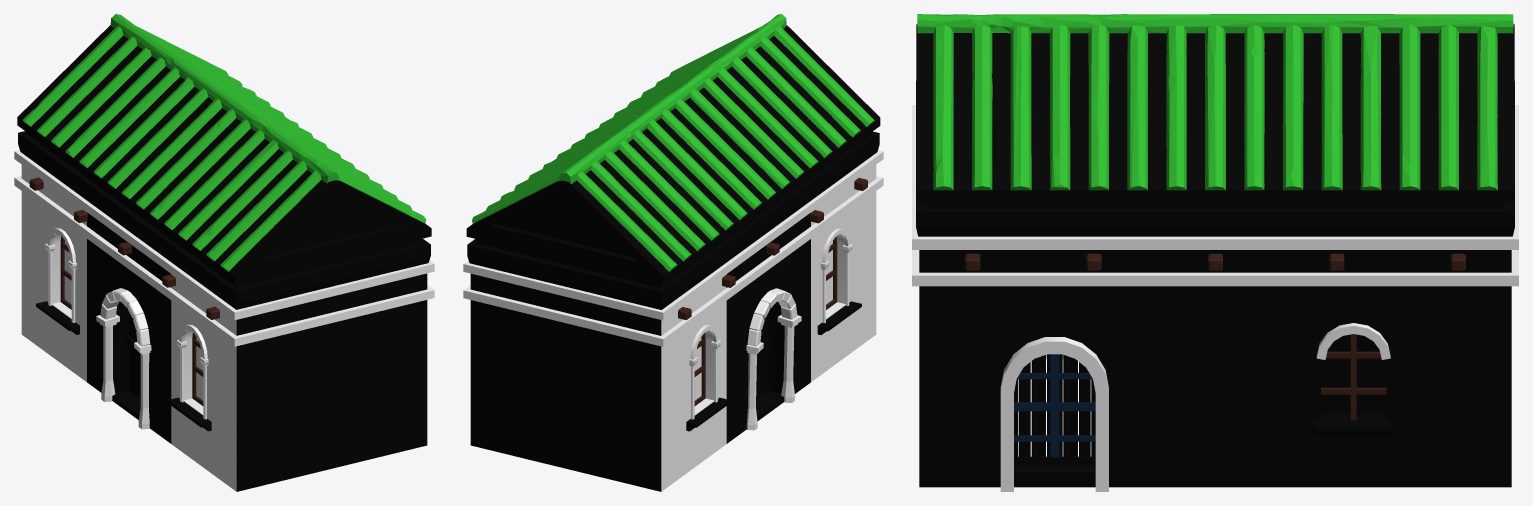
File: civilian_house_38_d.FBX
3 renders of one model, left to right at view 1: azimuth 30°, elevation 25°; view 2: azimuth 150°, elevation 25°; view 3: azimuth 270°, elevation 25°, orthographic. The views are drawn at different scales.
Parts seen in each view (by area): view 1: civilian_house_38_d; view 2: civilian_house_38_d; view 3: civilian_house_38_d.
Boxes of the visible parts, <box> form: civilian_house_38_d: <box>14,14,434,491</box>; civilian_house_38_d: <box>463,14,883,491</box>; civilian_house_38_d: <box>912,14,1518,491</box>.
Size of the model in its own units: 570 by 763 by 1025.
